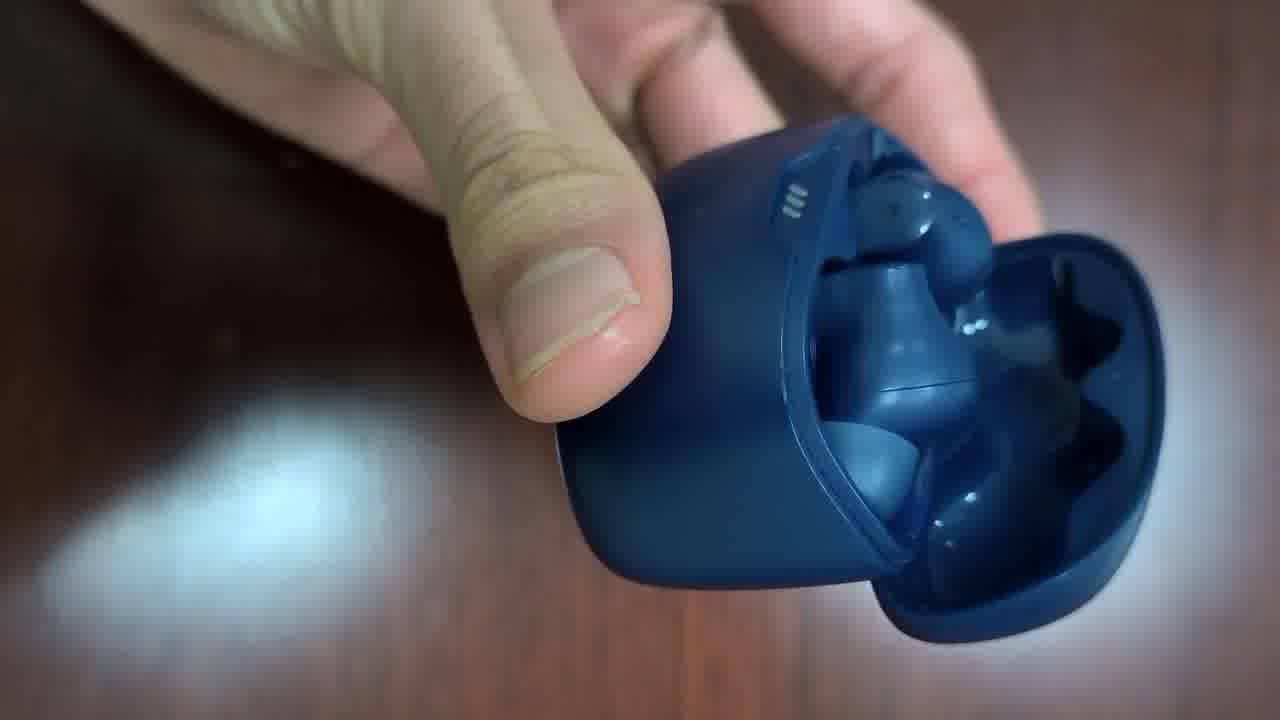Case: (556, 115, 1164, 642)
Earbud: (810, 258, 983, 522), (845, 154, 996, 300)
